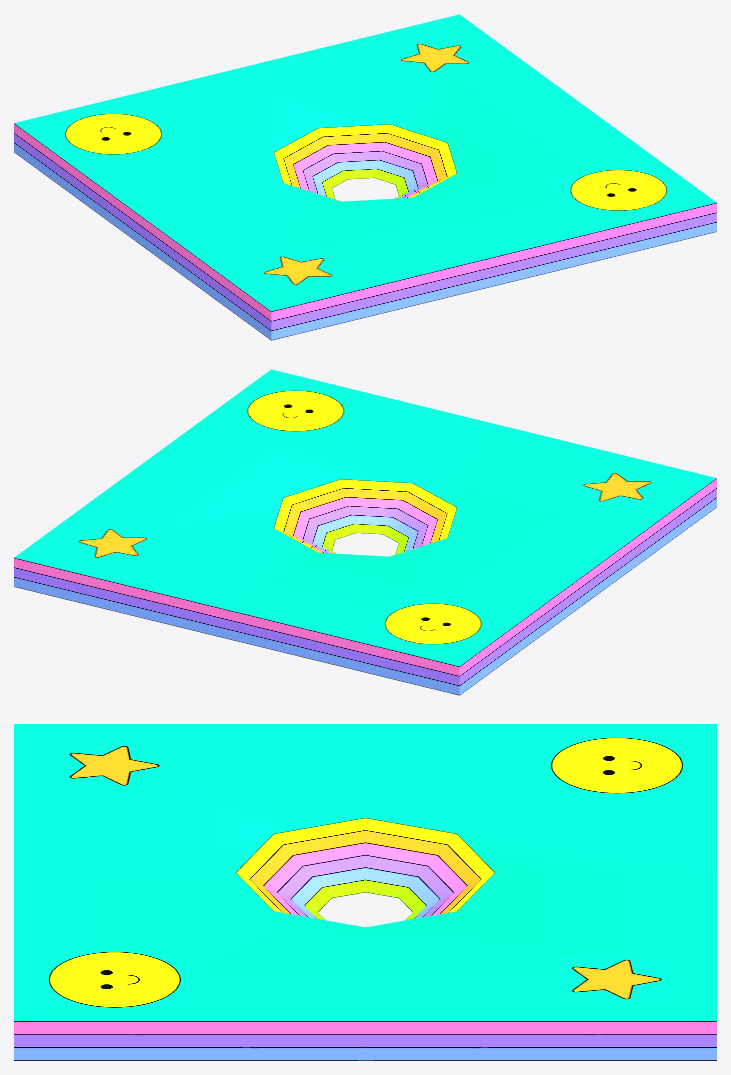
The model's file is cocobay_hole.gltf.
3 views of the same model, one above another, from view 1: azimuth 30°, elevation 25°; view 2: azimuth 150°, elevation 25°; view 3: azimuth 270°, elevation 25° (orthographic). The views are drawn at different scales.
Visible parts, largest first — view 1: cocobay_hole_glb; view 2: cocobay_hole_glb; view 3: cocobay_hole_glb.
Part boxes in pixels (x1=…): cocobay_hole_glb: x1=14, y1=14, x2=716, y2=340; cocobay_hole_glb: x1=14, y1=369, x2=716, y2=695; cocobay_hole_glb: x1=14, y1=724, x2=716, y2=1060.
Size of what is drawn, in the model's own units: 4 by 0.2531 by 4.
1 material, 1 textured.
